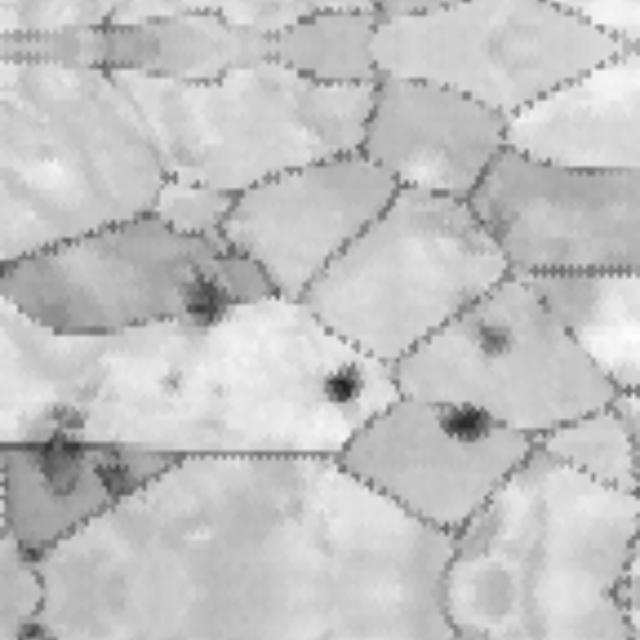good_void: (30, 400, 86, 498), (436, 398, 498, 452), (173, 270, 226, 323), (90, 457, 137, 505), (475, 325, 518, 364), (323, 370, 359, 409), (161, 373, 188, 397)
